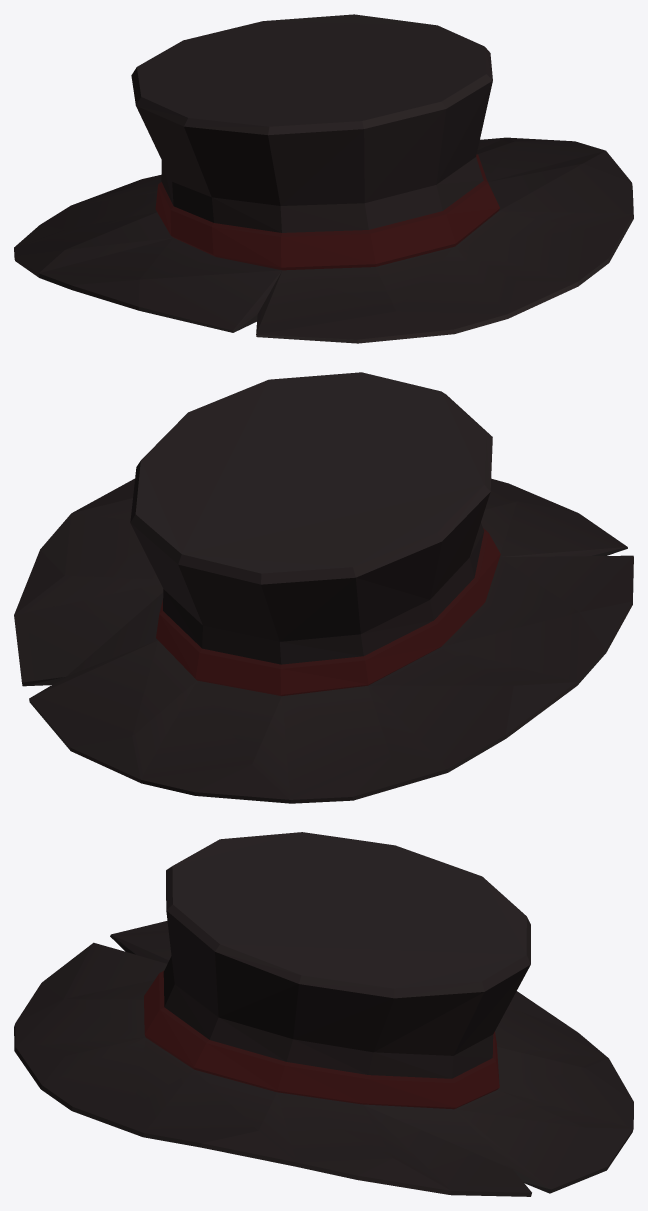
Rendered from plagueDoctorTopHat.glb.
The picture shows the model from 3 angles, top to bottom: view 1: azimuth 30°, elevation 25°; view 2: azimuth 150°, elevation 25°; view 3: azimuth 270°, elevation 25°; orthographic projection.
Parts seen in each view (by area): view 1: plagueDoctorTopHat; view 2: plagueDoctorTopHat; view 3: plagueDoctorTopHat.
Part boxes in pixels (x1=…): plagueDoctorTopHat: x1=14, y1=14, x2=633, y2=343; plagueDoctorTopHat: x1=14, y1=372, x2=633, y2=803; plagueDoctorTopHat: x1=14, y1=832, x2=633, y2=1196.
Bounding box in the file's own units: 0.5539 × 0.2344 × 0.5617.
